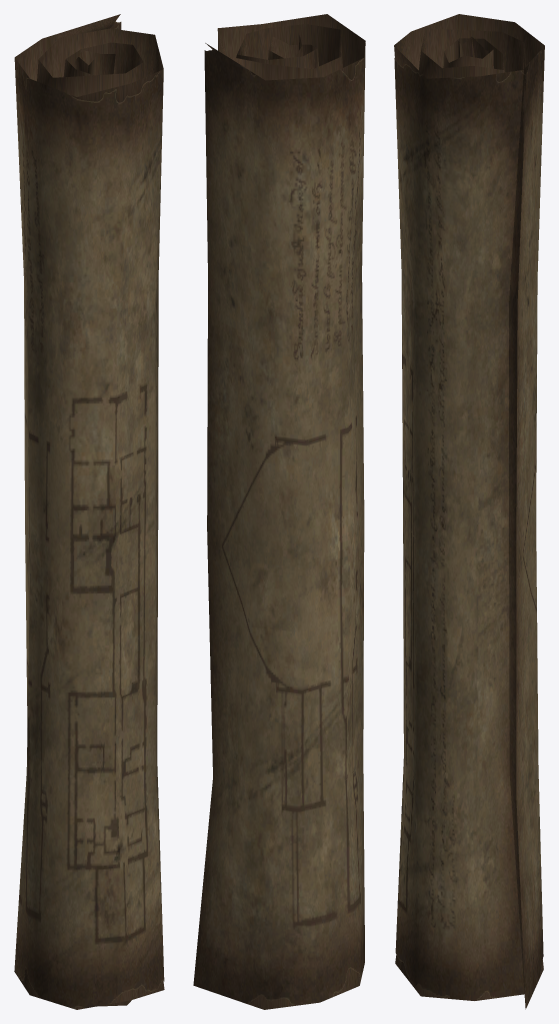
File: sketch_roll01.dae
The picture shows the model from 3 angles, left to right: view 1: azimuth 30°, elevation 25°; view 2: azimuth 150°, elevation 25°; view 3: azimuth 270°, elevation 25°; orthographic projection.
Visible parts, largest first — view 1: Cylinder; view 2: Cylinder; view 3: Cylinder.
Boxes of the visible parts, box(x1,y1,x2,y2) form: Cylinder: box(14, 14, 164, 1009); Cylinder: box(193, 14, 365, 1009); Cylinder: box(394, 14, 544, 1009).
Bounding box in the file's own units: 0.2303 × 1.53 × 0.2208.
